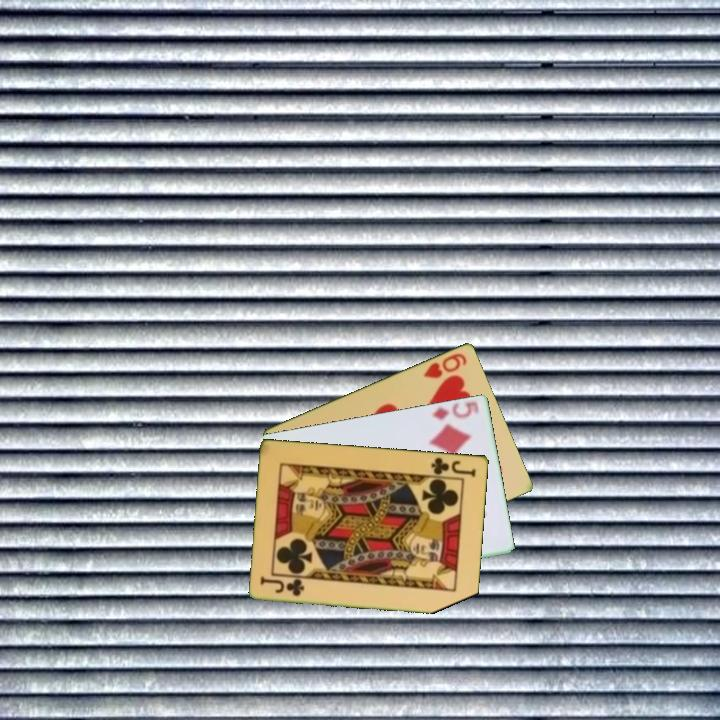5d: (428, 398, 480, 423)
6h: (420, 349, 470, 381)
Jc: (428, 453, 479, 479), (257, 574, 307, 599)
